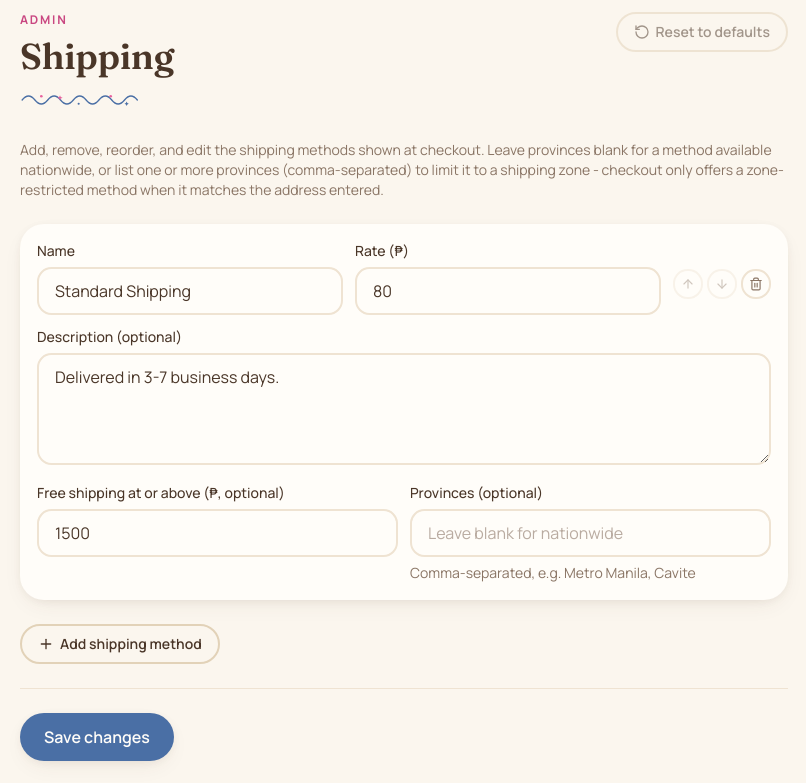
Test: ShippingEditor › saves an edited rate to localStorage and shows a confirmation
Step 1. Replace the text in the field labelled "Rate (₱)" with "120" → [508, 291], box [355,267,661,315]
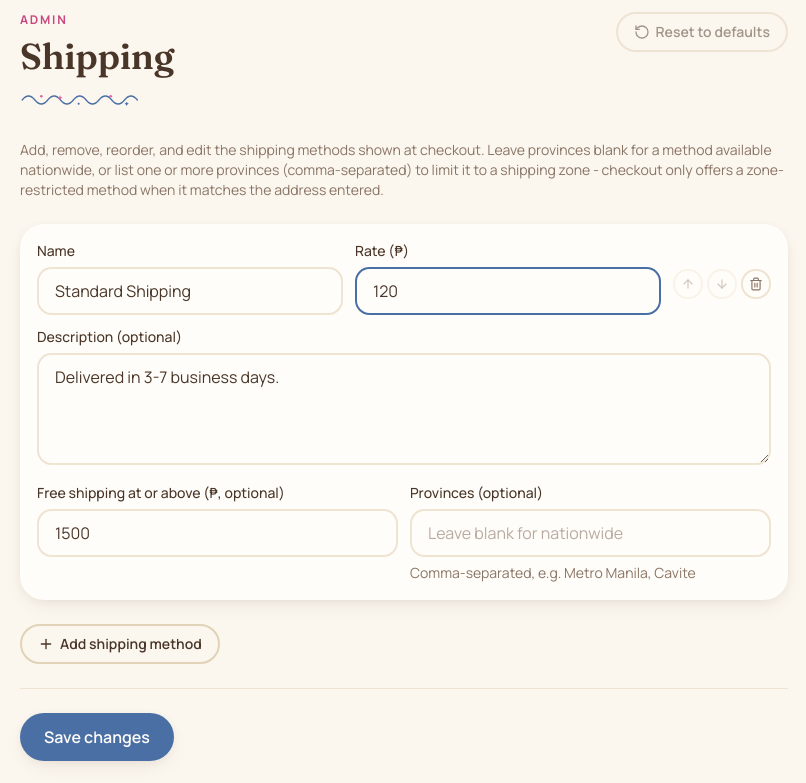
Step 2. Click the button "Save changes" → [97, 737], box [20,713,174,761]
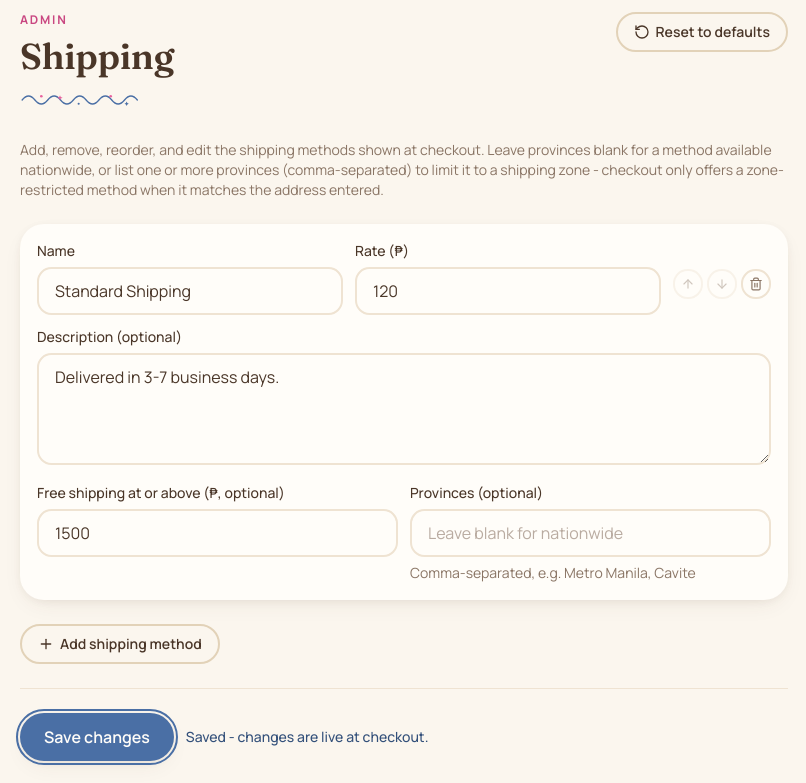
Expected: the message shows "Saved", [186,727,428,746]
